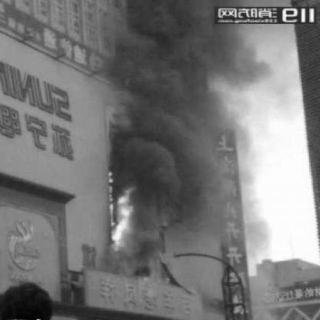Fire: (106, 176, 142, 250)
Smoke: (112, 4, 249, 196)
